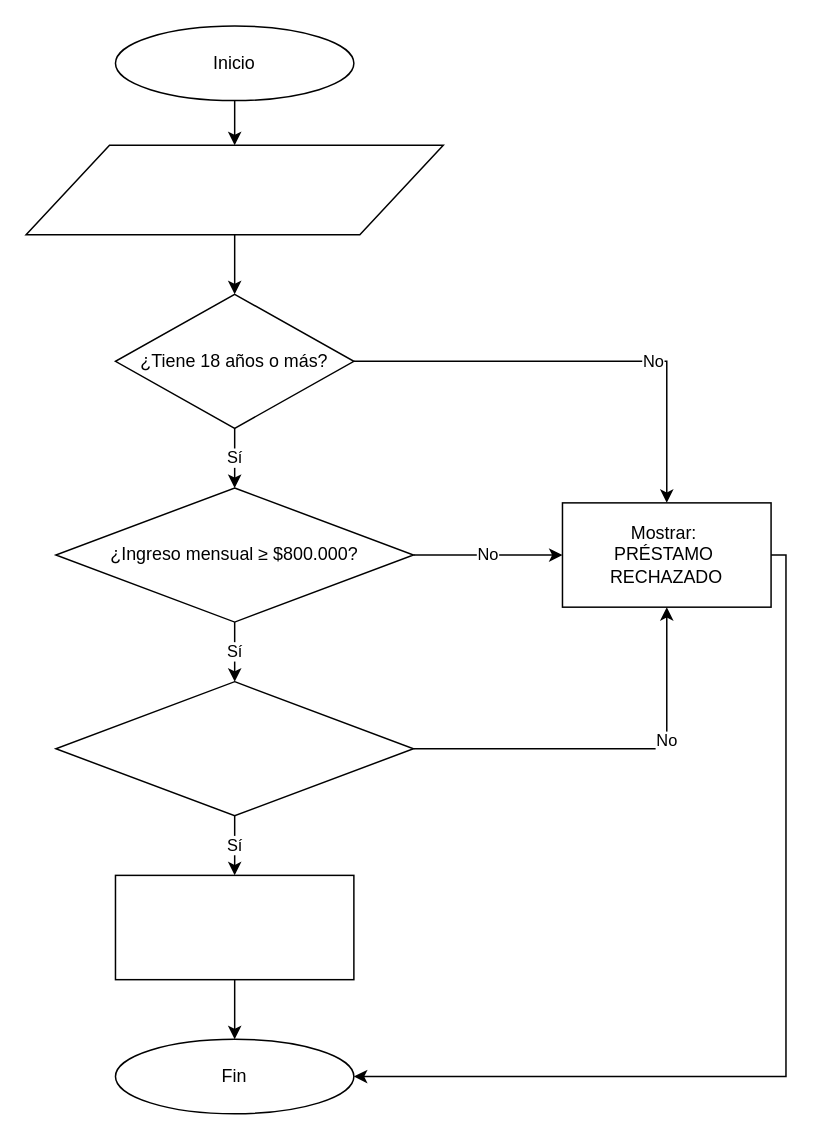
This 824x1140 diagram has some shape labels left out. The box of each missing label's shape, as (x1, y1, x2, y2) in pixels:
Leer nombre y apellido, edad, ingreso mensual y antigüedad laboral: (25, 144, 443, 235)
Mostrar: PRÉSTAMO APROBADO: (114, 874, 354, 980)
¿Antigüedad laboral ≥ 2 años?: (54, 680, 413, 816)
